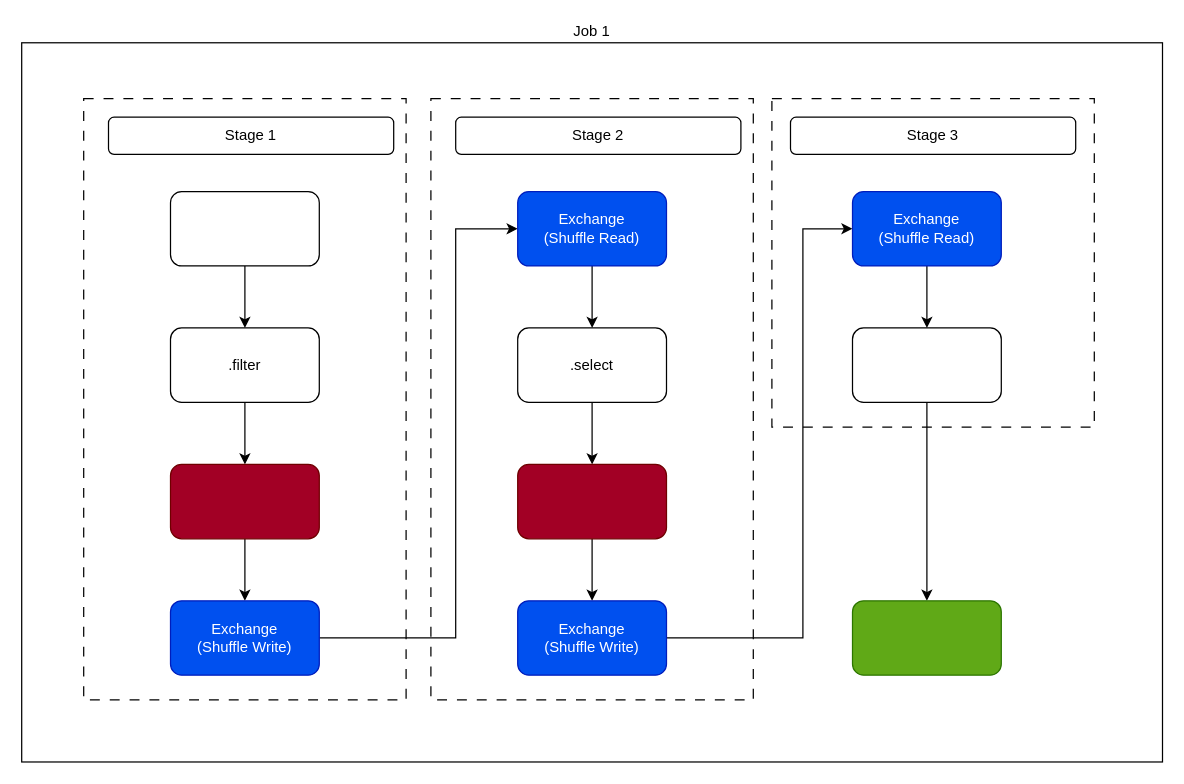
Image size: 1184x784. Some labels were removed from this diagram. The box of each missing label's shape, as (x1, y1, x2, y2) in pixels:
.agg: (851, 327, 1001, 402)
.collect: (851, 600, 1001, 675)
.groupBy: (516, 463, 666, 539)
.repartition: (169, 463, 319, 539)
spark.read: (169, 190, 319, 266)
